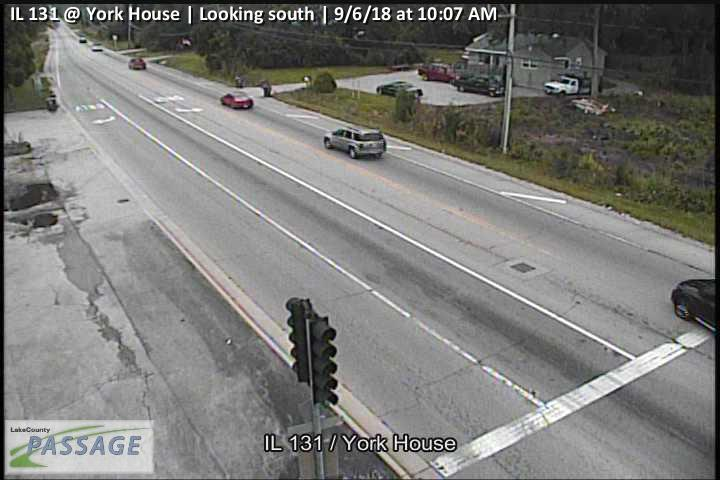SUV: (323, 125, 388, 159)
Sedan: (456, 75, 504, 96), (419, 61, 461, 83), (376, 79, 423, 98), (220, 90, 254, 109), (128, 56, 146, 71)
Truck: (543, 72, 603, 96)
